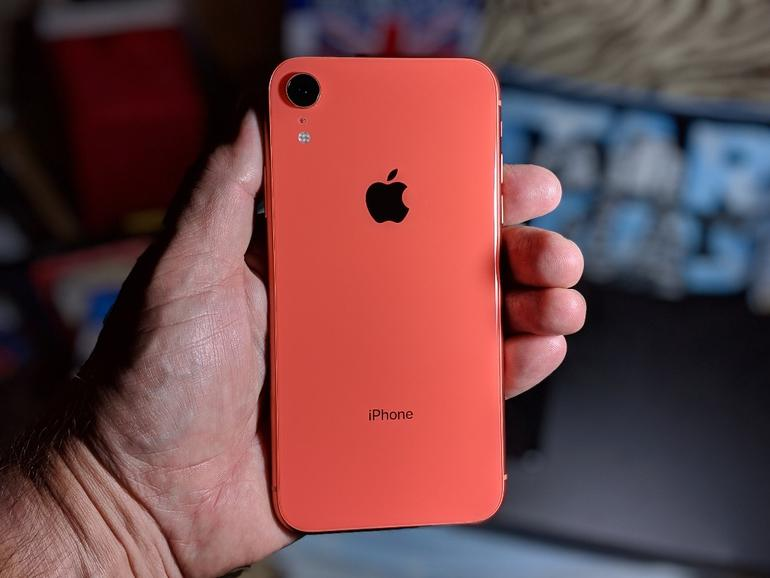apple: (354, 159, 445, 237)
